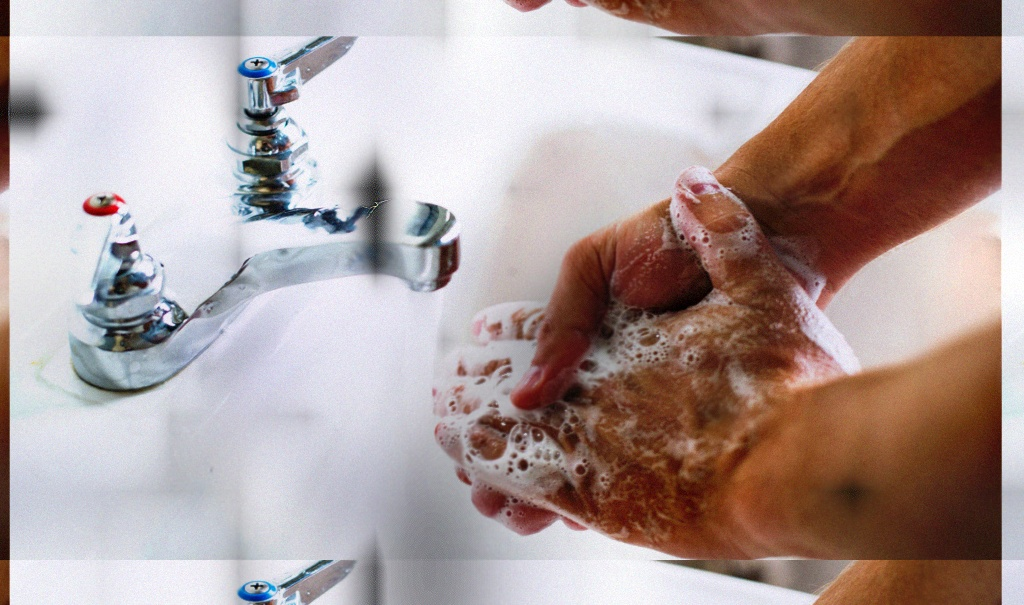washing hand: (202, 63, 901, 543)
